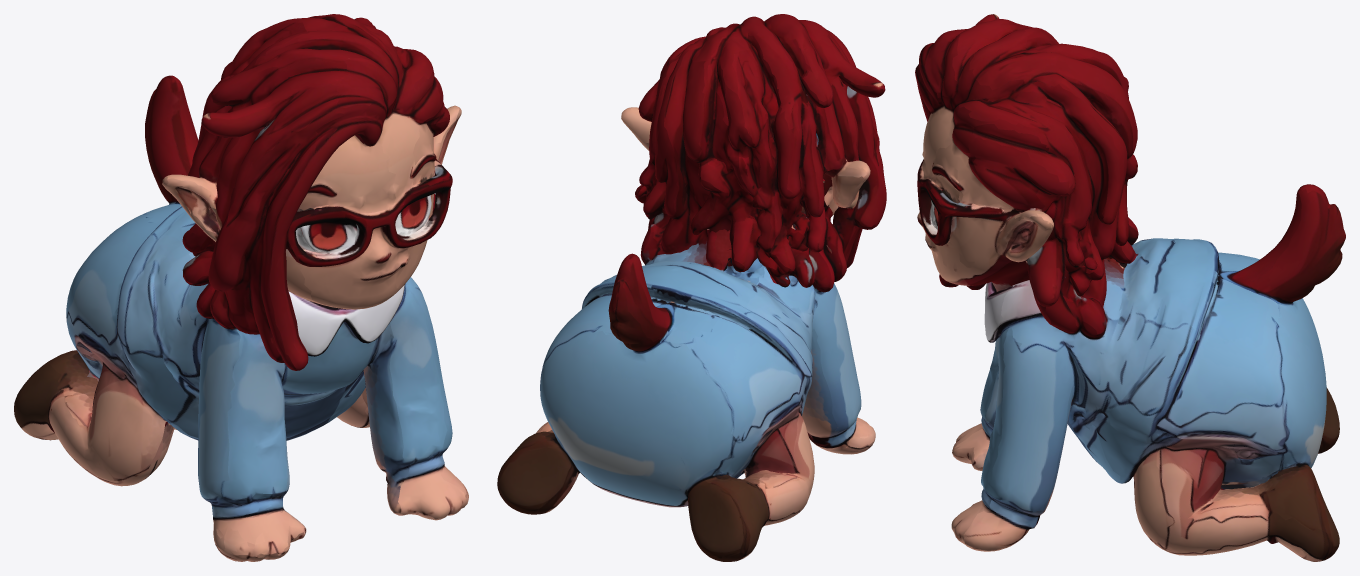
Rendered from vaepupdoll.glb.
The picture shows the model from 3 angles, left to right: view 1: azimuth 30°, elevation 25°; view 2: azimuth 150°, elevation 25°; view 3: azimuth 270°, elevation 25°; orthographic projection. The views are drawn at different scales.
Parts seen in each view (by area): view 1: temp_mesh.ply; view 2: temp_mesh.ply; view 3: temp_mesh.ply.
Boxes of the visible parts, box(x1,y1,x2,y2) form: temp_mesh.ply: box(14, 14, 468, 561); temp_mesh.ply: box(497, 14, 886, 561); temp_mesh.ply: box(915, 14, 1345, 561).
Bounding box in the file's own units: 1.28 × 1.95 × 1.63.
Materials: 1 (1 with a texture image).
